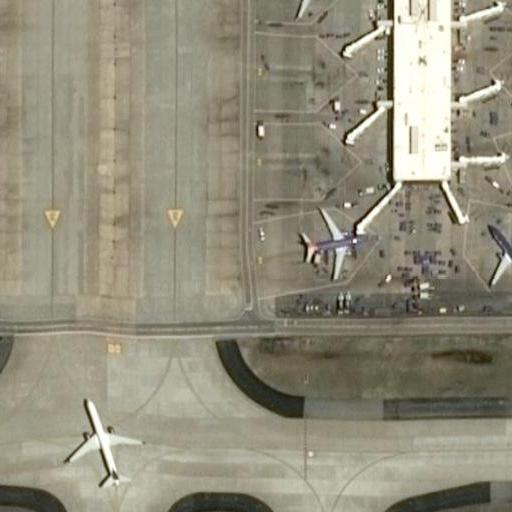Aircraft: (55, 391, 142, 488), (295, 200, 372, 281), (479, 216, 512, 292), (260, 0, 344, 21)
